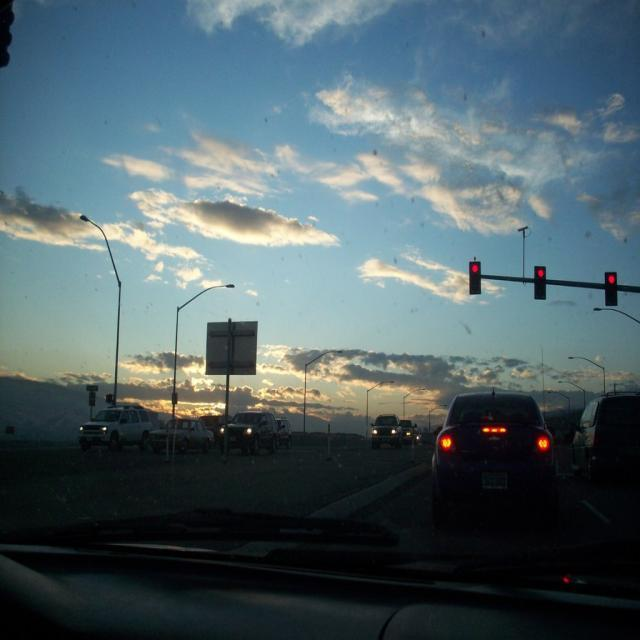traffic light: (469, 262, 483, 295), (605, 272, 618, 307), (534, 265, 547, 299)
